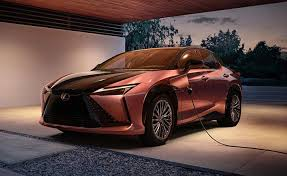car: (38, 45, 247, 147)
